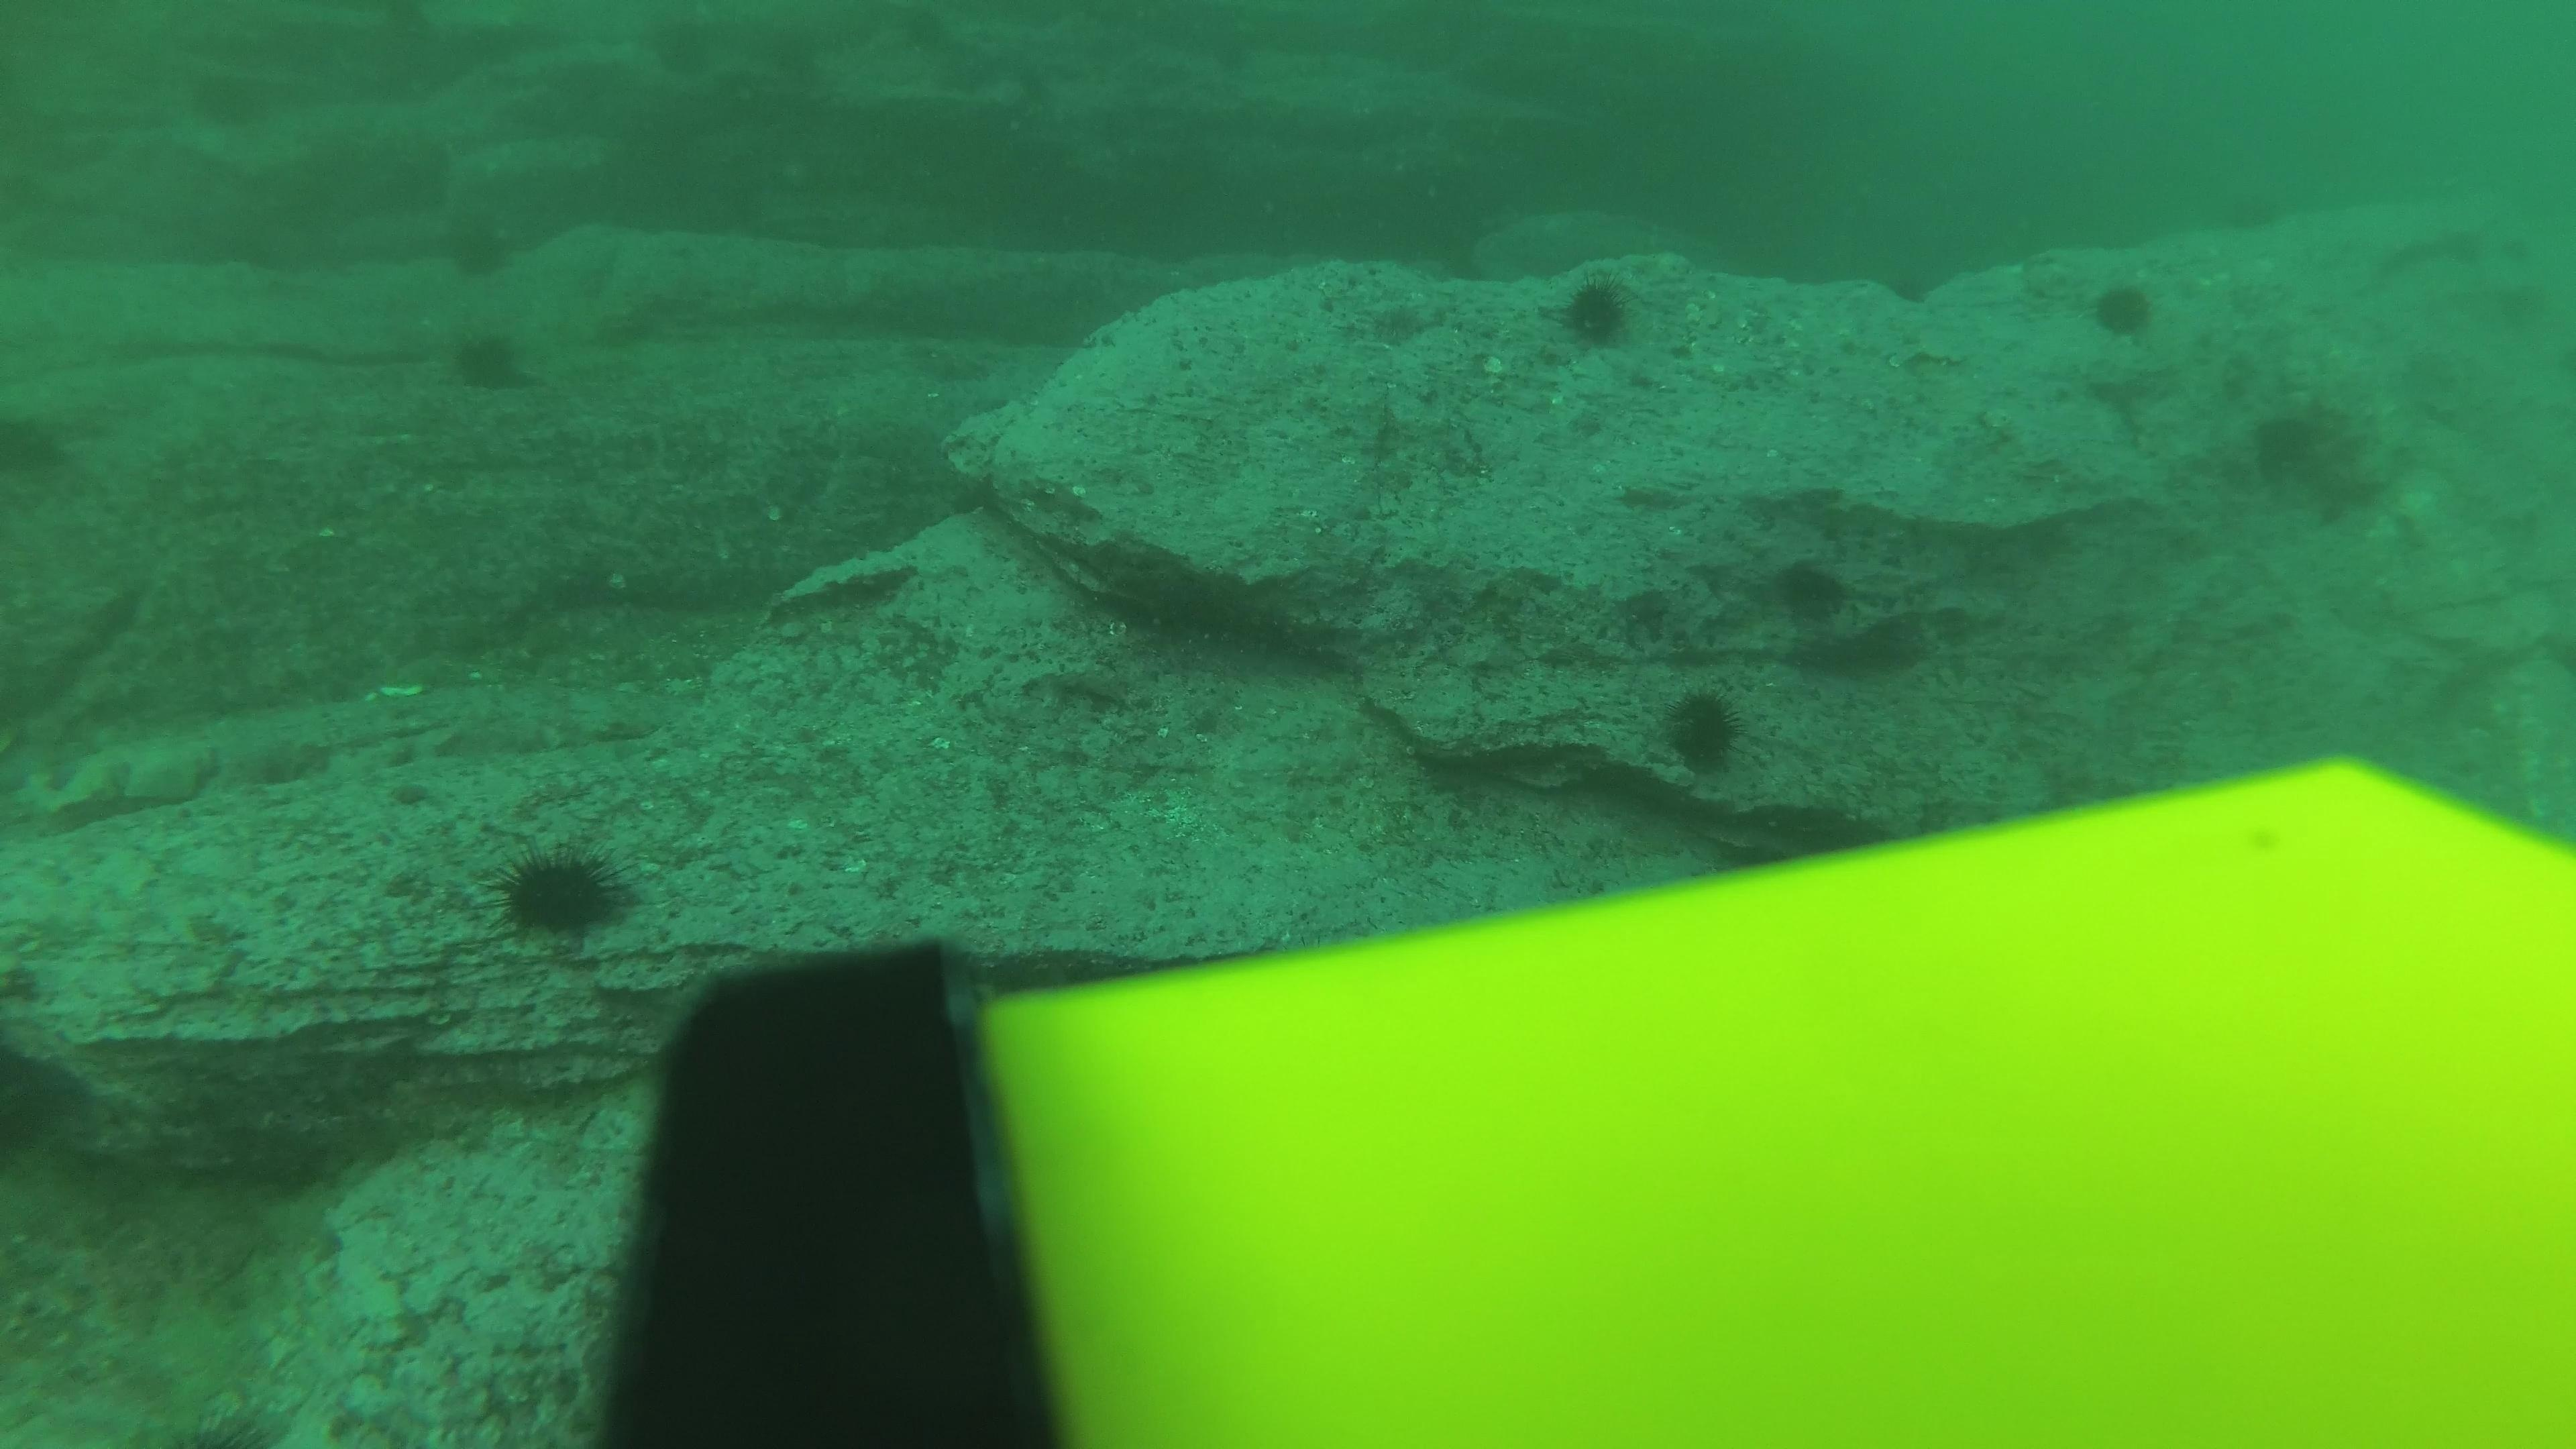echinus: (488, 839, 637, 947), (1649, 681, 1757, 780), (1545, 269, 1645, 357), (442, 320, 538, 398), (1762, 552, 1858, 630), (437, 209, 520, 283), (2082, 272, 2164, 345)
